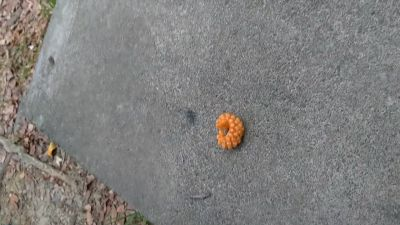eggs: (214, 112, 246, 152)
